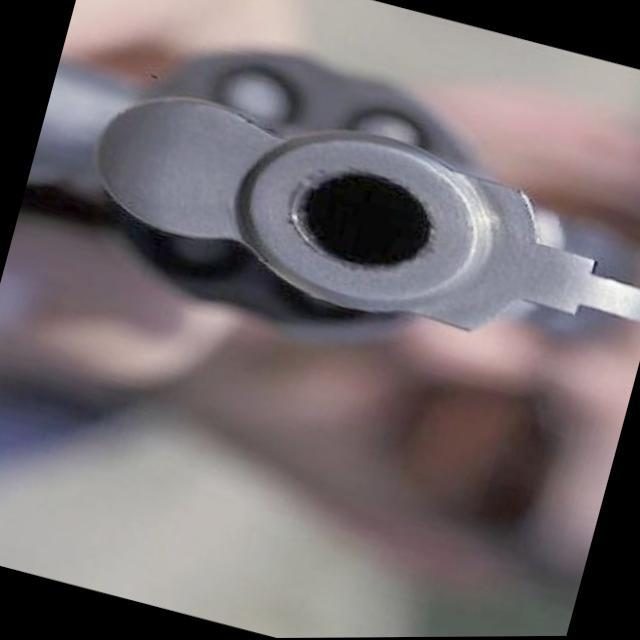gun: (6, 0, 640, 420)
